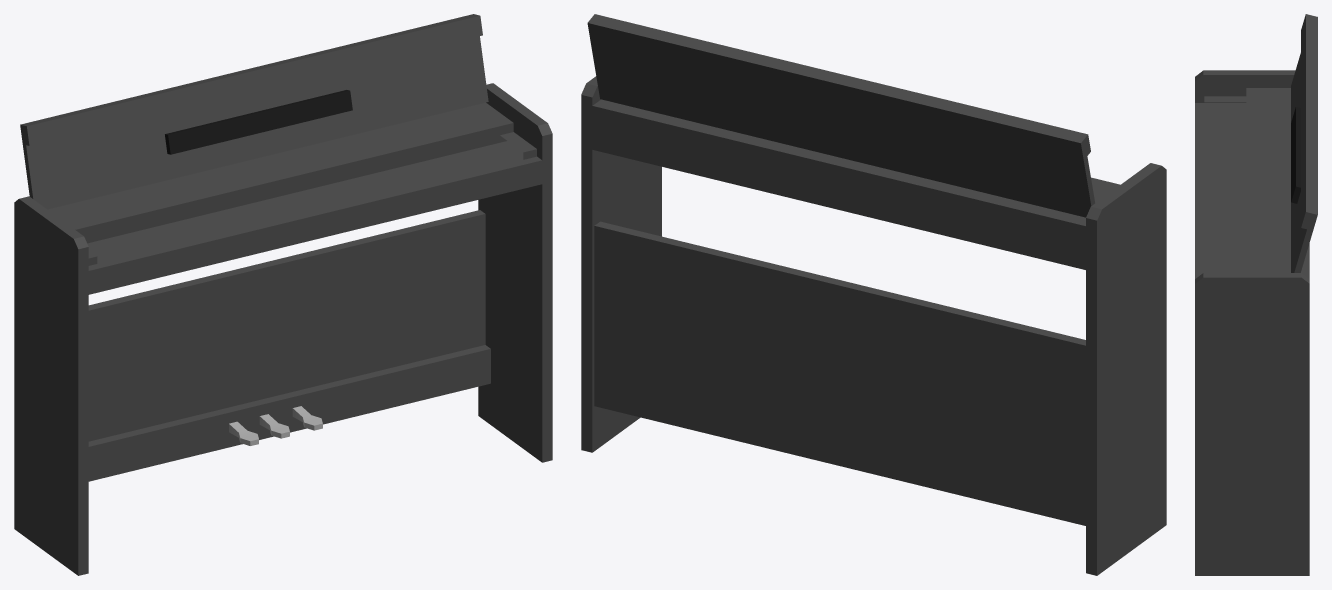
File: Piano.fbx
3 views of the same model, side by side, from view 1: azimuth 30°, elevation 25°; view 2: azimuth 150°, elevation 25°; view 3: azimuth 270°, elevation 25° (orthographic). The views are drawn at different scales.
Visible parts, largest first — view 1: Piano; view 2: Piano; view 3: Piano.
Part boxes in pixels (x1,y1,x2,y2): Piano: [14, 14, 552, 575]; Piano: [581, 14, 1166, 575]; Piano: [1195, 14, 1317, 575].
Size of the model in its own units: 148 by 120 by 37.12.
